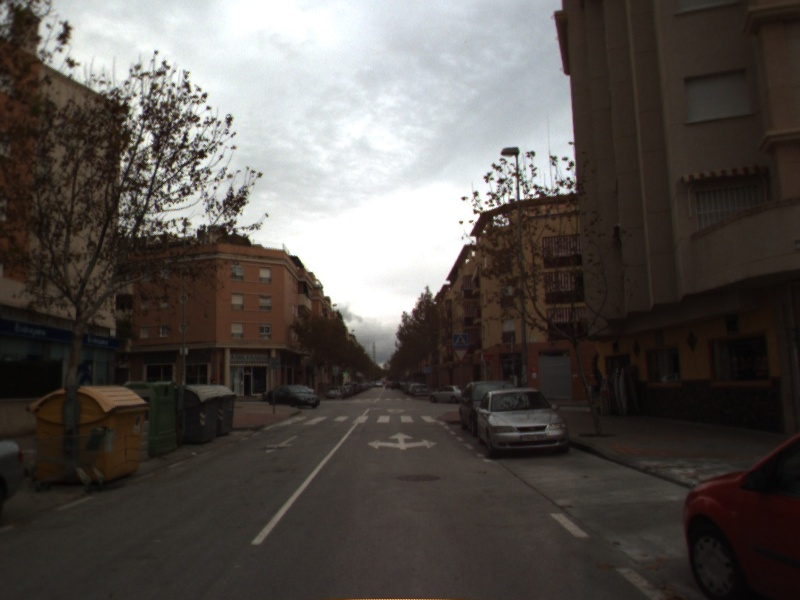STRAIGHT_LEFT_RIGHT: (365, 429, 440, 452)
